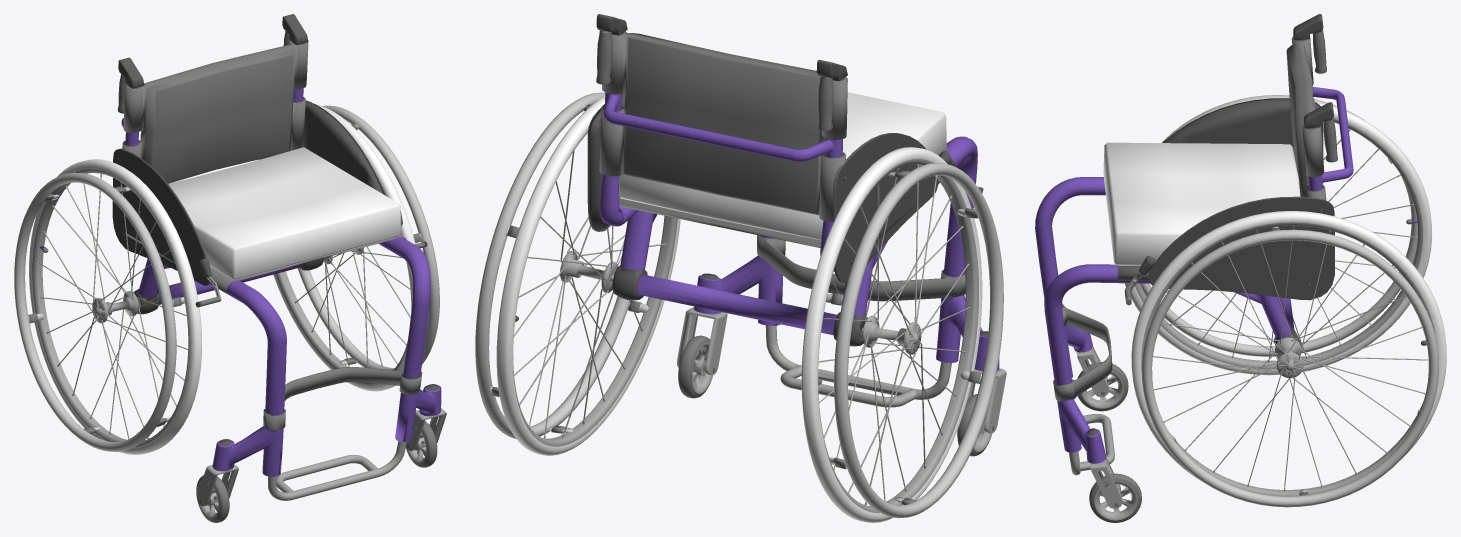
The model's file is wheelchair.glb.
The picture shows the model from 3 angles, left to right: view 1: azimuth 30°, elevation 25°; view 2: azimuth 150°, elevation 25°; view 3: azimuth 270°, elevation 25°; orthographic projection. The views are drawn at different scales.
Visible parts, largest first — view 1: Rollstuhl_Küschall; view 2: Rollstuhl_Küschall; view 3: Rollstuhl_Küschall.
Boxes of the visible parts, x1,y1,x2,y2 form: Rollstuhl_Küschall: [14, 14, 446, 522]; Rollstuhl_Küschall: [475, 14, 1006, 522]; Rollstuhl_Küschall: [1035, 14, 1446, 522].
Size of the model in its own units: 2.01 by 2.44 by 2.26.
